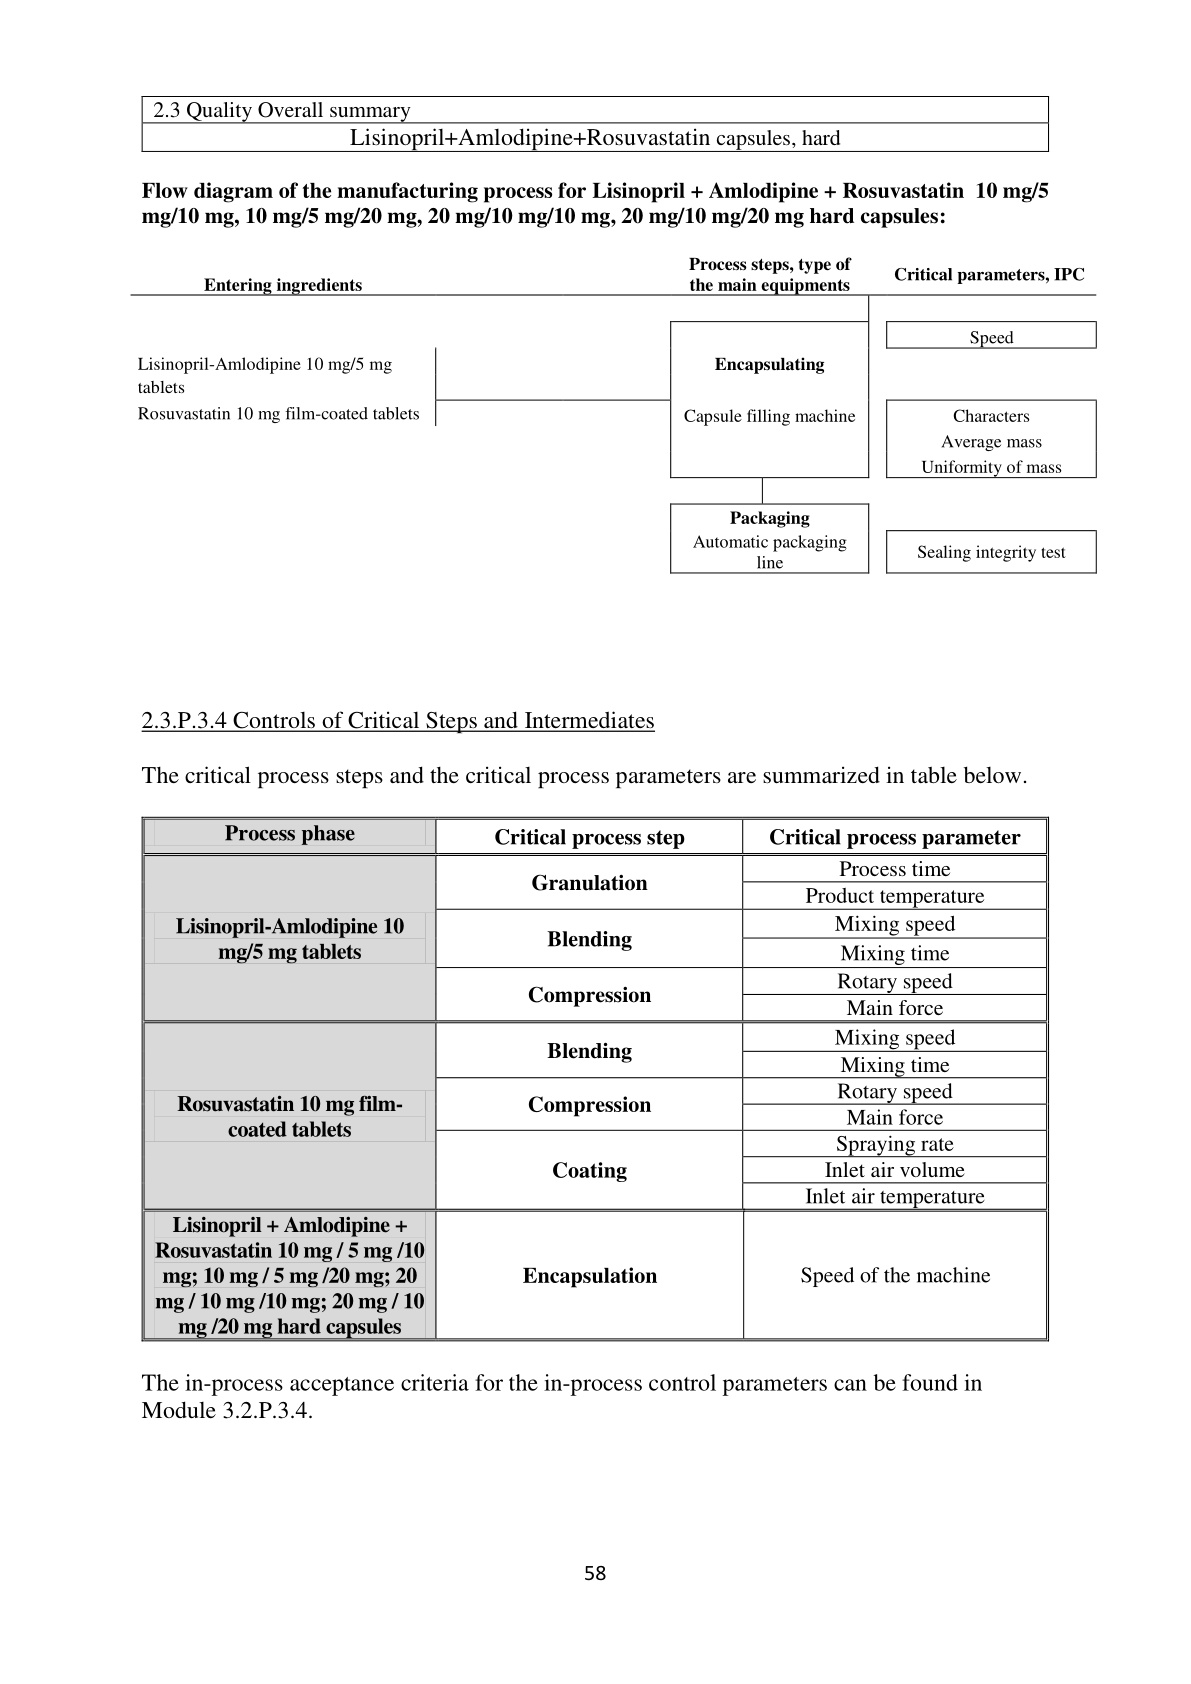full_lined: (140, 95, 1051, 153)
merged_cells: (140, 816, 1049, 1343)
